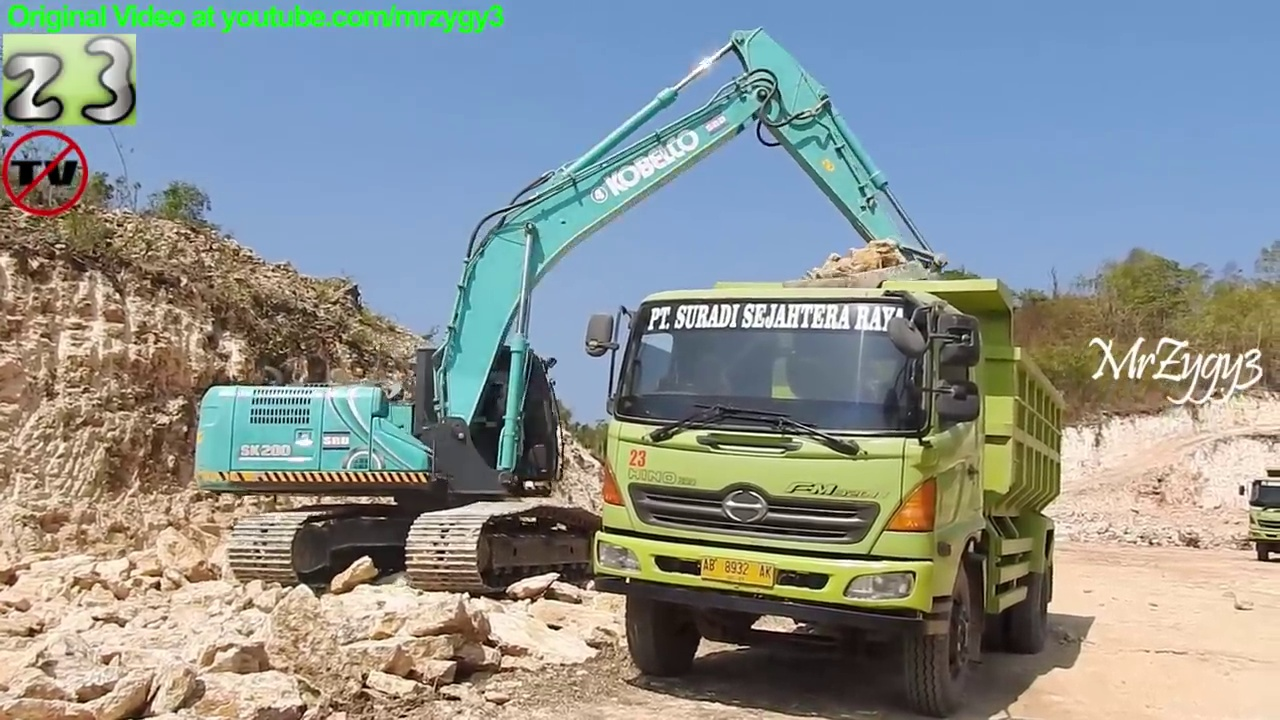excavator: (185, 17, 968, 609)
truck: (579, 269, 1074, 720), (1236, 459, 1280, 567)
